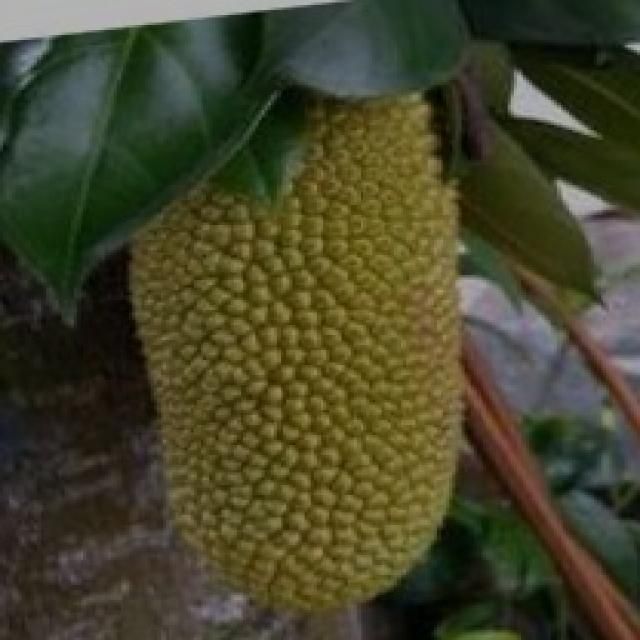Fruit: (136, 52, 542, 452), (101, 257, 520, 640)
